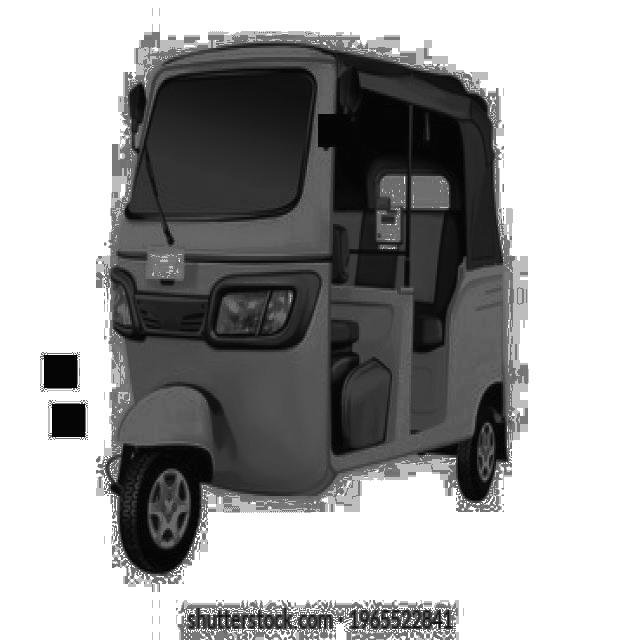Auto-Rickshaw: (103, 43, 514, 573)
